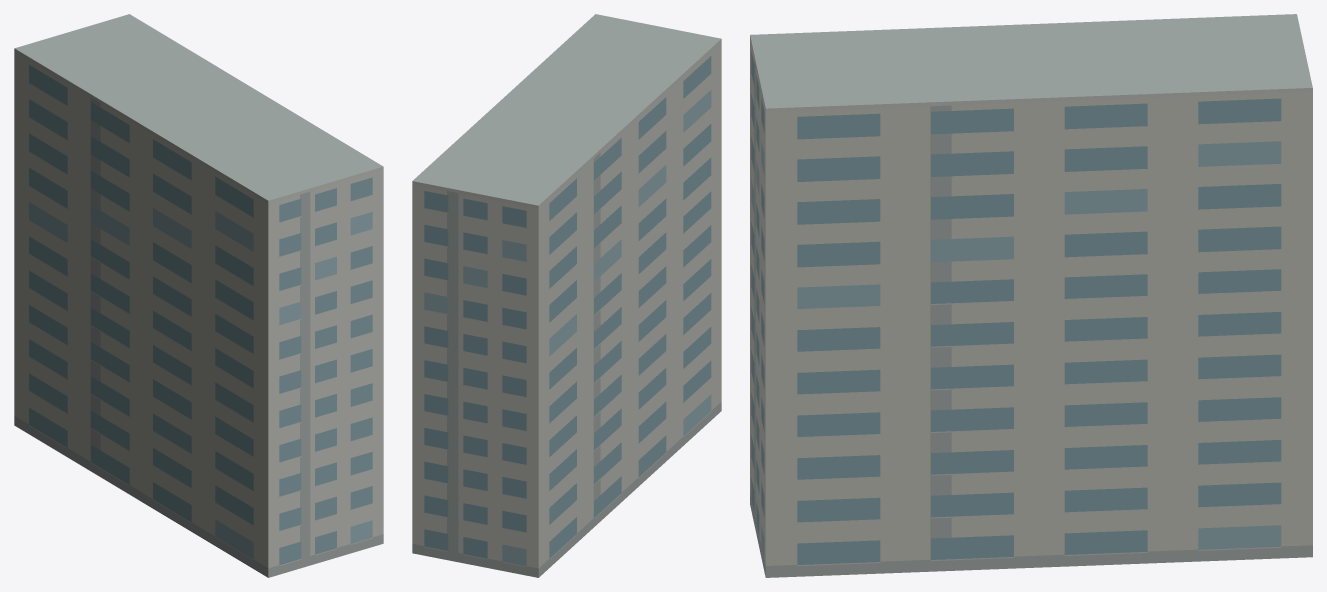
Rendered from residential-779cebaa-e1ac-4f00-bc19-5bb3103ec6cb.glb.
The picture shows the model from 3 angles, left to right: view 1: azimuth 30°, elevation 25°; view 2: azimuth 150°, elevation 25°; view 3: azimuth 270°, elevation 25°; orthographic projection. The views are drawn at different scales.
Visible parts, largest first — view 1: residential-779cebaa-e1ac-4f00-bc19-5bb3103ec6cb.tmp; view 2: residential-779cebaa-e1ac-4f00-bc19-5bb3103ec6cb.tmp; view 3: residential-779cebaa-e1ac-4f00-bc19-5bb3103ec6cb.tmp.
Boxes of the visible parts, left/top/right/bottom form: residential-779cebaa-e1ac-4f00-bc19-5bb3103ec6cb.tmp: left=14, top=14, right=383, bottom=577; residential-779cebaa-e1ac-4f00-bc19-5bb3103ec6cb.tmp: left=412, top=14, right=721, bottom=577; residential-779cebaa-e1ac-4f00-bc19-5bb3103ec6cb.tmp: left=750, top=14, right=1312, bottom=577.
Bounding box in the file's own units: 12.54 × 29 × 31.53.
